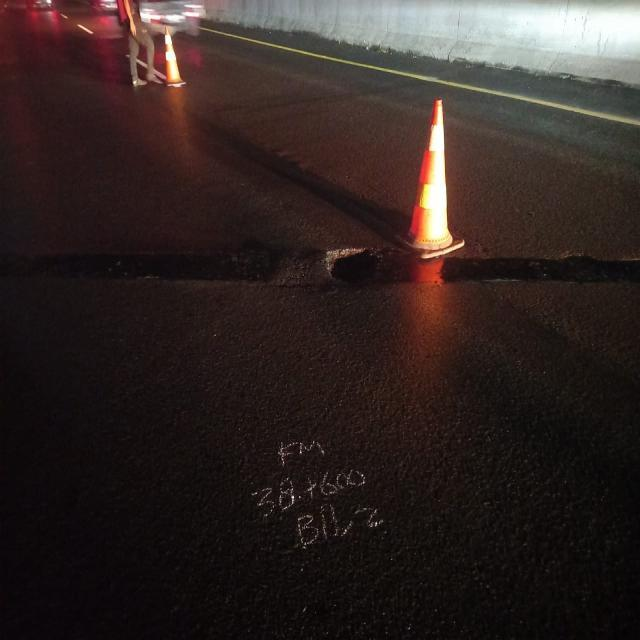Buraco: (320, 244, 408, 290), (552, 248, 604, 284)
